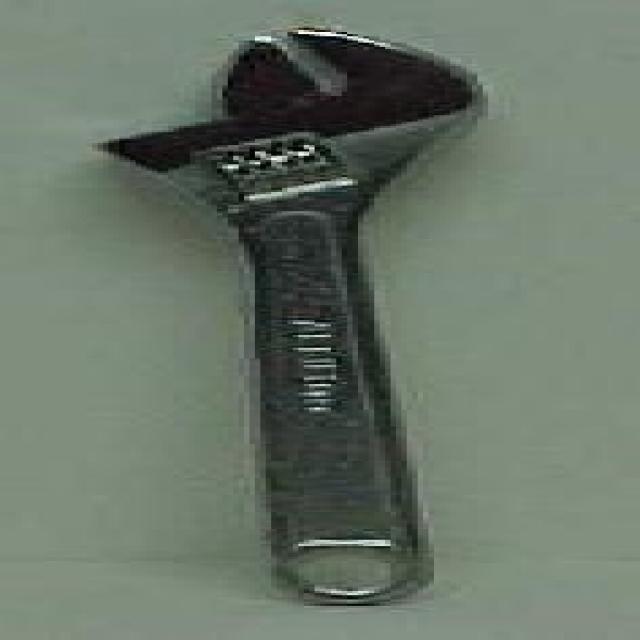wrench: (78, 16, 513, 610)
